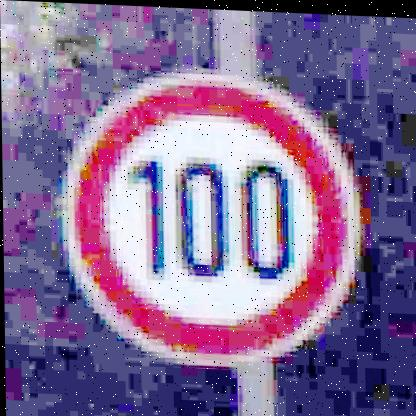Speed Limit -100-: (62, 64, 360, 367)
